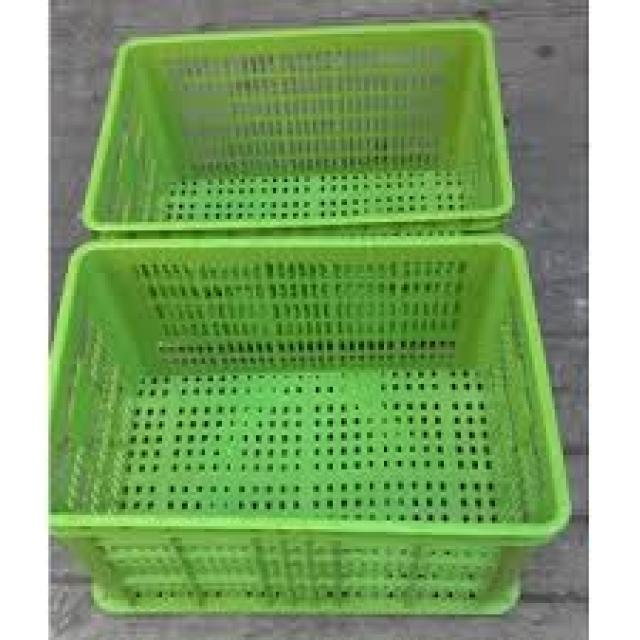basket: (51, 239, 572, 616), (82, 23, 515, 233)
